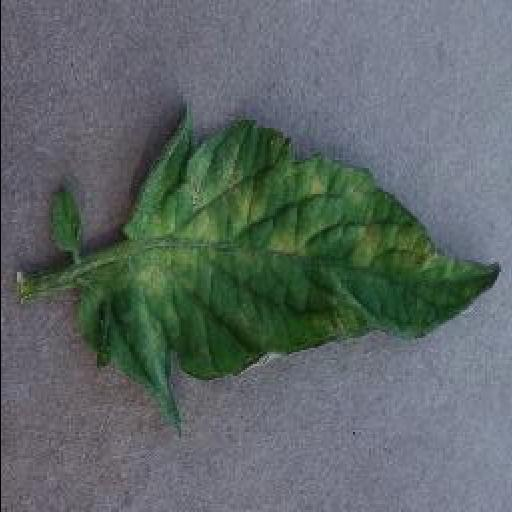disease_tomato: (72, 107, 502, 439)
